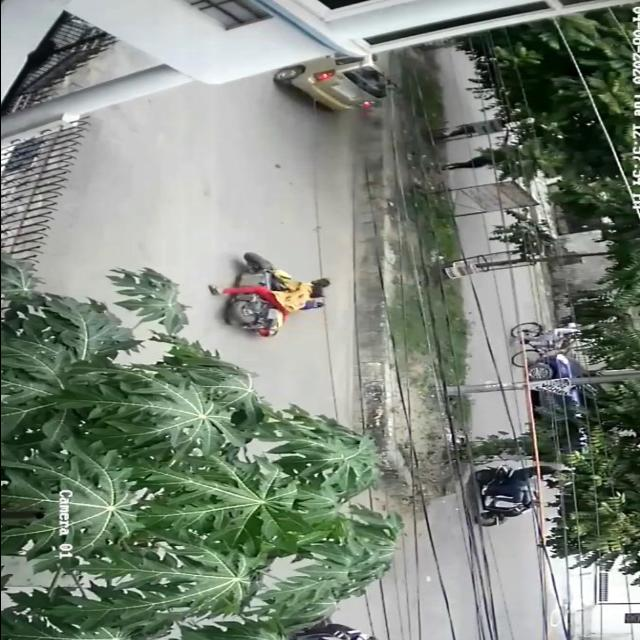accident: (201, 249, 339, 343)
